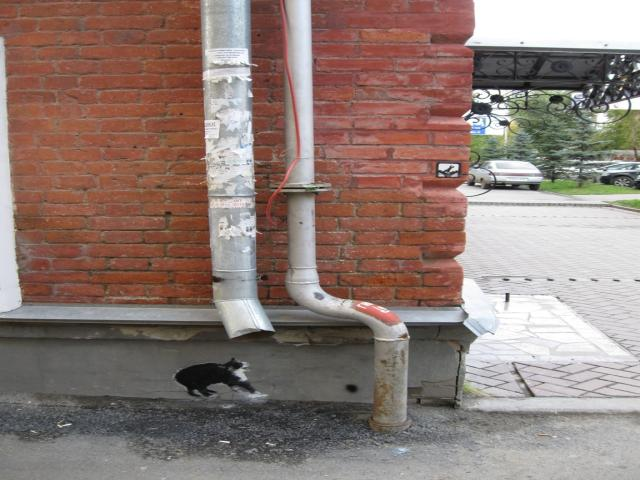Cat: (177, 356, 260, 396)
